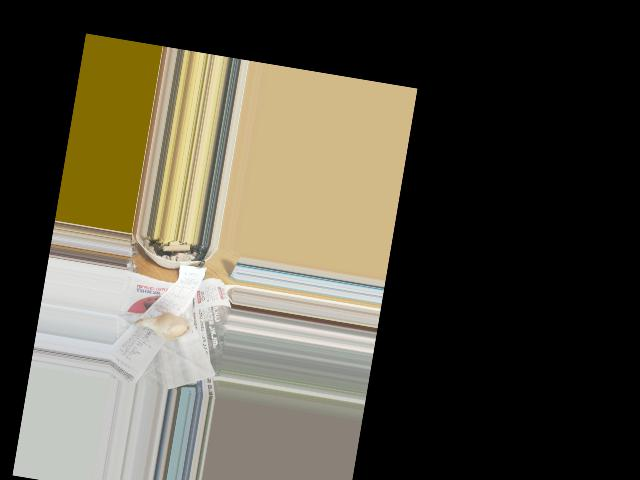onion: (151, 312, 190, 339)
